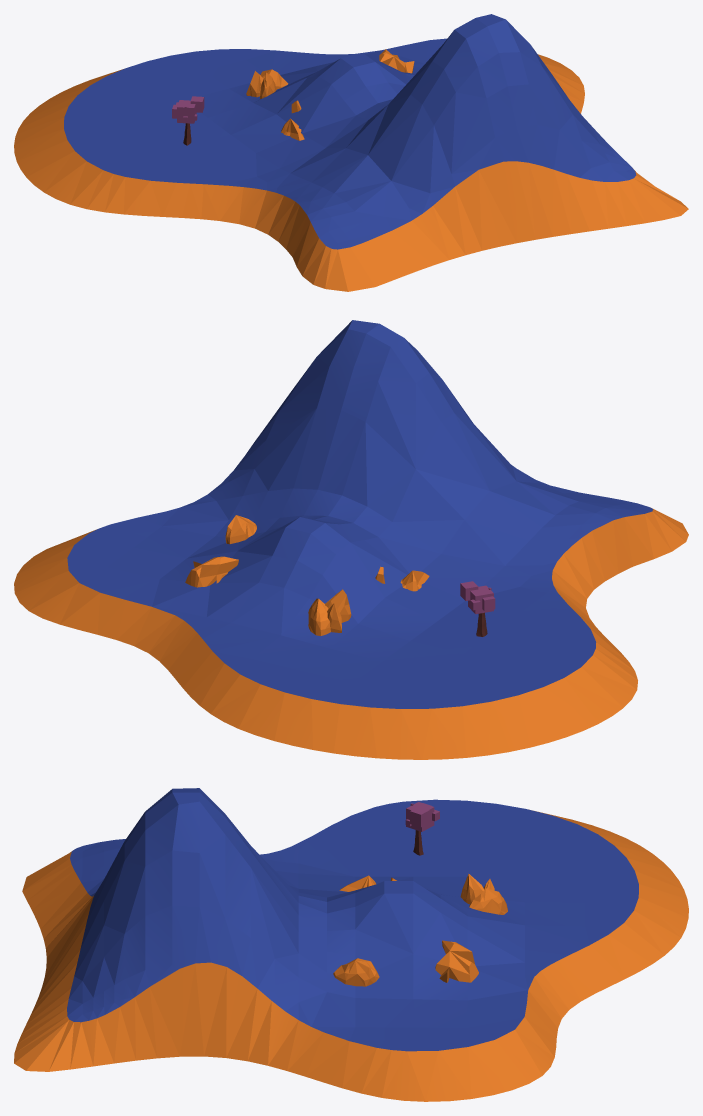
The model's file is simpleModel.fbx.
3 views of the same model, one above another, from view 1: azimuth 30°, elevation 25°; view 2: azimuth 150°, elevation 25°; view 3: azimuth 270°, elevation 25° (orthographic). The views are drawn at different scales.
Visible parts, largest first — view 1: base; view 2: base; view 3: base.
Boxes of the visible parts, <box> form: base: <box>14,14,688,291</box>; base: <box>14,320,688,759</box>; base: <box>14,788,688,1101</box>.
Bounding box in the file's own units: 114 × 35.77 × 110.
